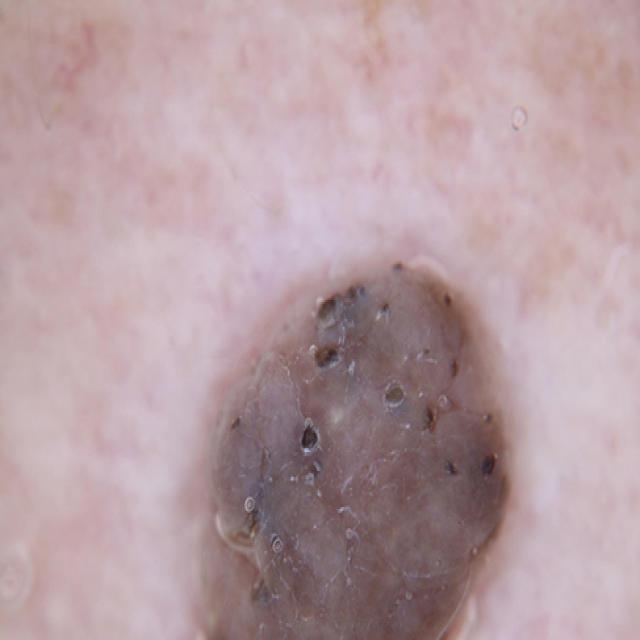Keratosis: (171, 209, 568, 640)
